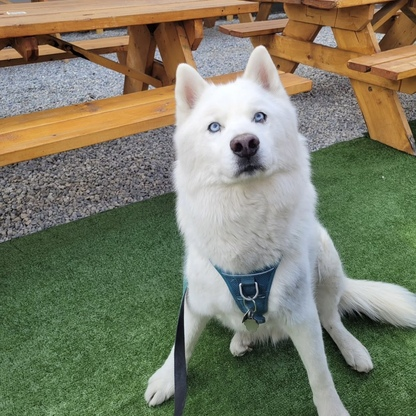husky: (139, 41, 416, 415)
